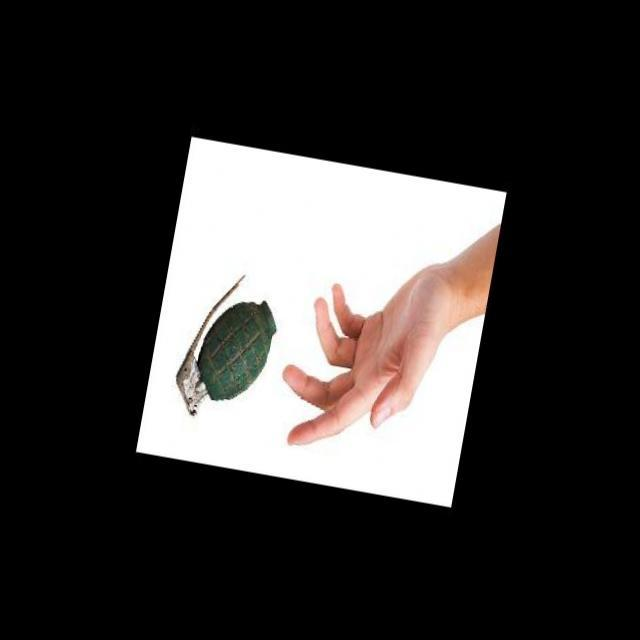grenade: (166, 264, 286, 438)
